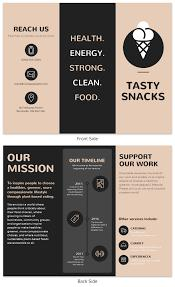paper: (3, 3, 172, 134), (3, 147, 172, 277)
